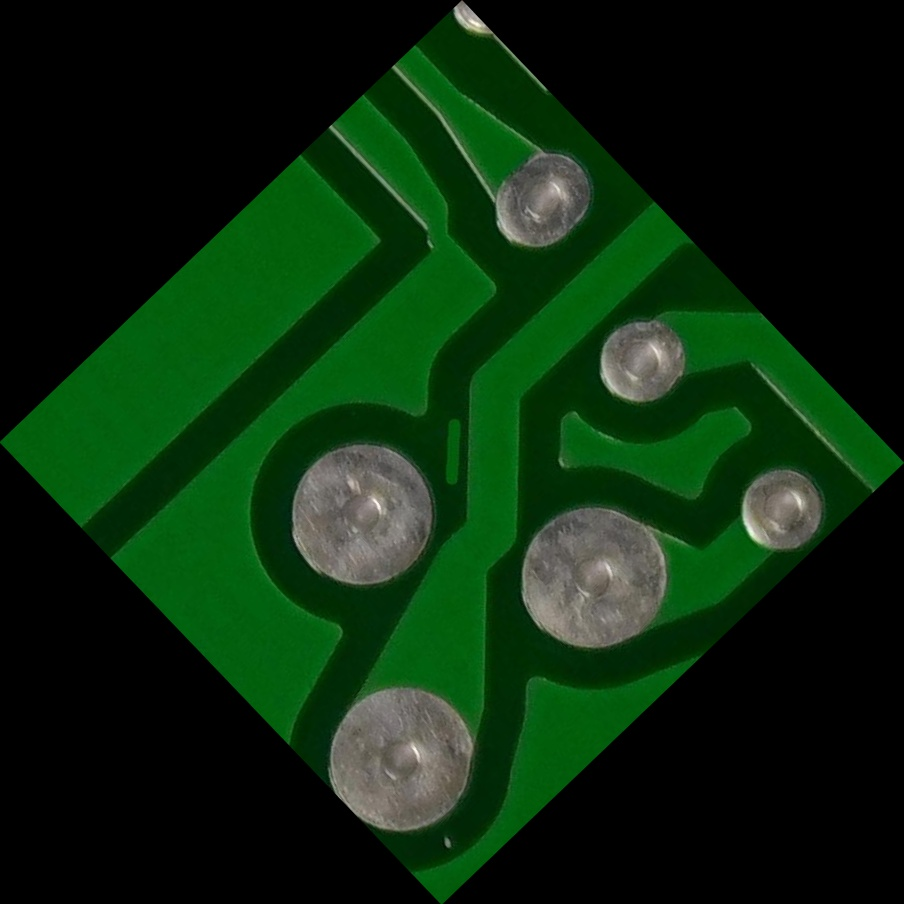spurious_copper: (395, 396, 509, 509)
